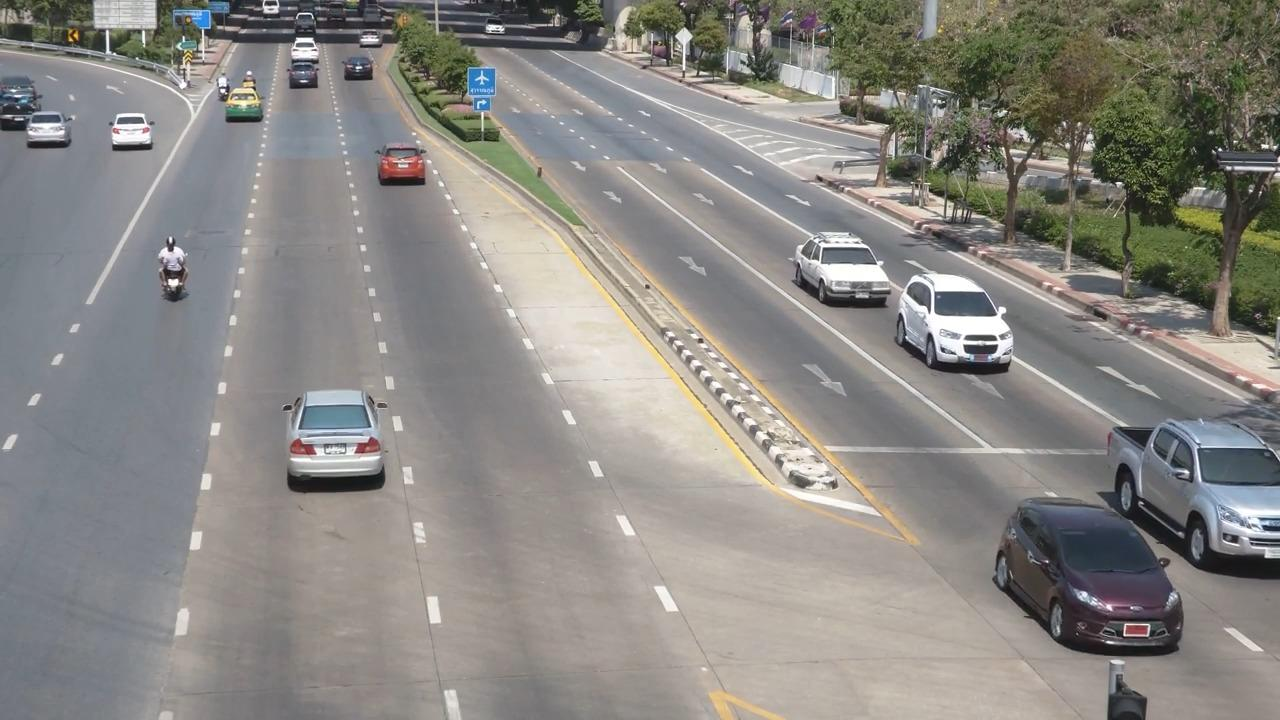CAR: (977, 487, 1194, 656), (1102, 419, 1280, 578), (262, 377, 401, 501), (888, 265, 1026, 381), (783, 217, 893, 316), (369, 137, 437, 196), (98, 108, 166, 162), (19, 106, 83, 158), (217, 87, 273, 137), (282, 56, 332, 102), (338, 53, 386, 99), (2, 80, 51, 124), (353, 25, 392, 63), (283, 34, 327, 67), (255, 0, 293, 34), (290, 11, 321, 39)
MOTOR: (133, 229, 208, 315), (194, 84, 228, 131), (227, 84, 260, 126)
